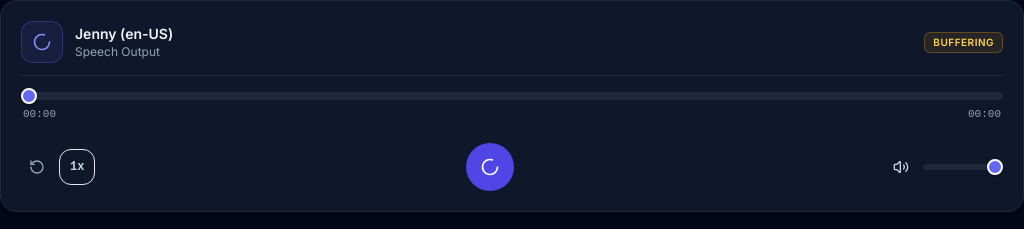
Test: Audio Player and Download Component › toggles play and pause state on AudioPlayer button click
This screenshot has width=1024, height=229.
Click the button named "Play speech audio" at (490, 166), box [466,142,514,190]
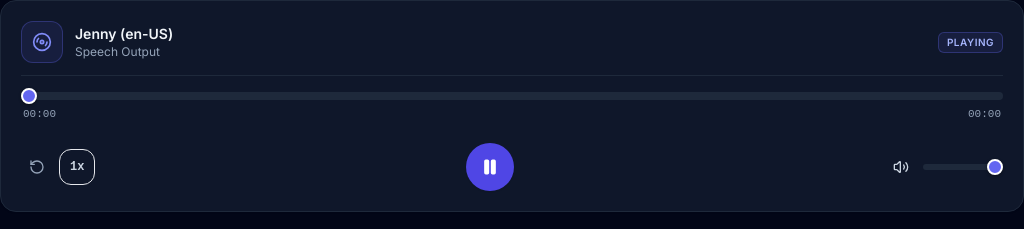
Check: the button named "Pause speech audio" is shown, box [466,142,514,190]
